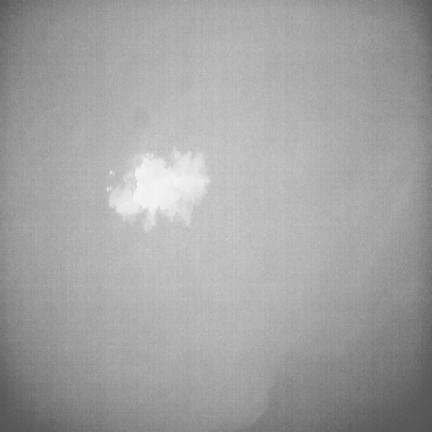flukeprints: (107, 148, 209, 230)
